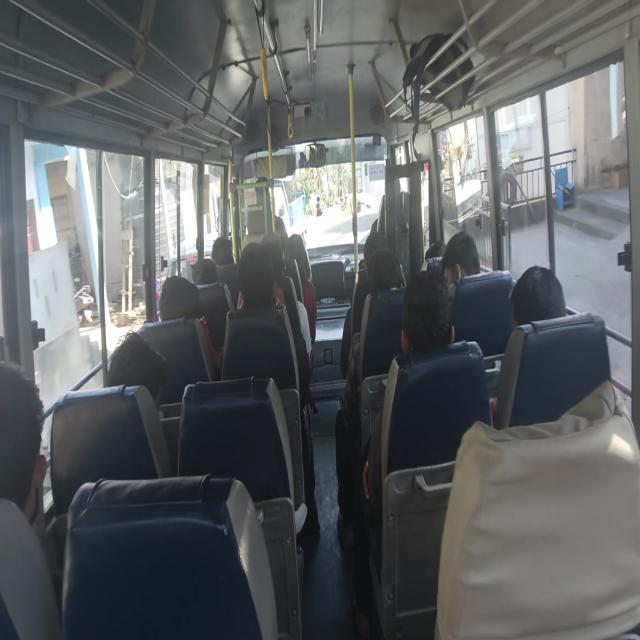person: (0, 364, 65, 507), (220, 248, 272, 320), (410, 278, 465, 337), (504, 275, 574, 318), (102, 336, 146, 402), (192, 222, 230, 278), (155, 272, 195, 314), (348, 226, 384, 272), (372, 252, 408, 292), (447, 230, 477, 274), (258, 228, 282, 277), (419, 231, 450, 266), (186, 241, 211, 283), (288, 226, 302, 275)
